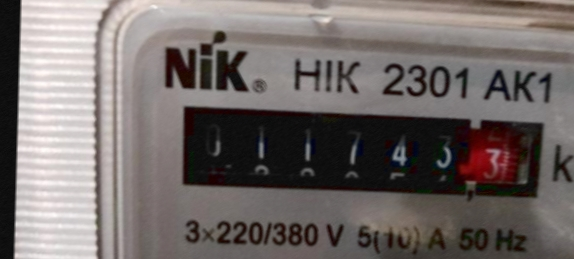0: (200, 119, 224, 159), (250, 119, 270, 161)
1: (297, 122, 314, 163)
3: (432, 128, 453, 172), (480, 143, 501, 181)
4: (387, 127, 408, 168)
7: (340, 123, 364, 167)
screen: (160, 91, 551, 208)
